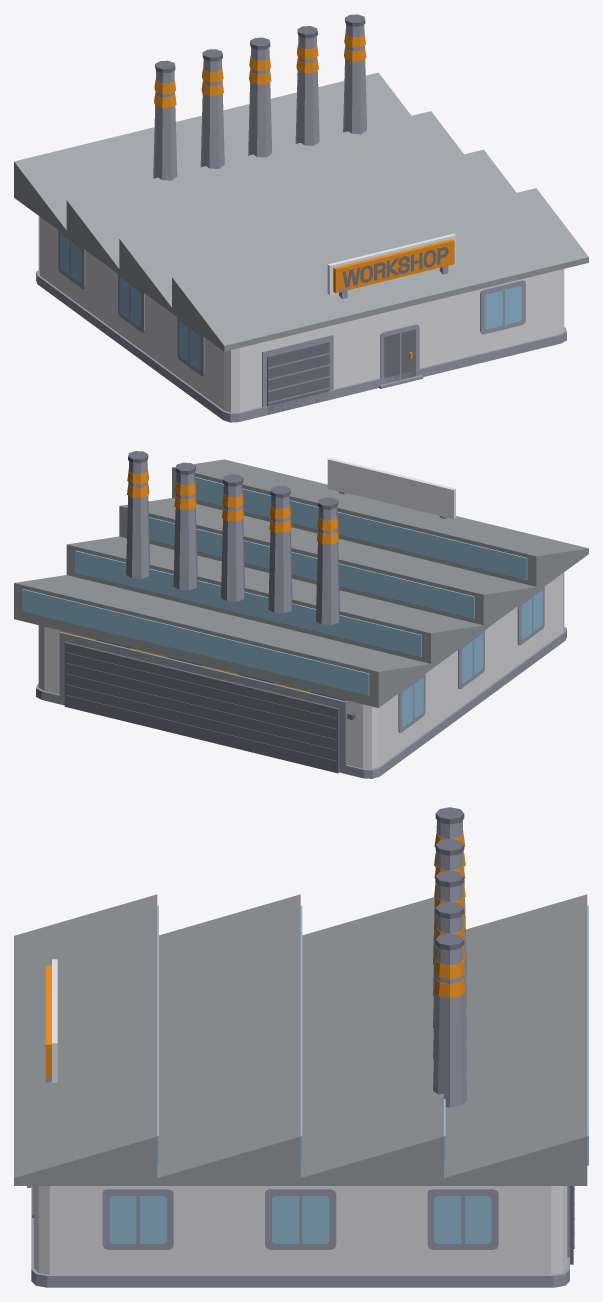
Rendered from workshop-2x2-t5-tone-a.glb.
3 renders of one model, top to bottom at view 1: azimuth 30°, elevation 25°; view 2: azimuth 150°, elevation 25°; view 3: azimuth 270°, elevation 25°, orthographic. The views are drawn at different scales.
Parts seen in each view (by area): view 1: workshop-2x2-t5-tone-a; view 2: workshop-2x2-t5-tone-a; view 3: workshop-2x2-t5-tone-a.
Boxes of the visible parts, left/top/right/bottom form: workshop-2x2-t5-tone-a: left=14, top=14, right=588, bottom=422; workshop-2x2-t5-tone-a: left=14, top=451, right=588, bottom=778; workshop-2x2-t5-tone-a: left=14, top=807, right=588, bottom=1287.
Bounding box in the file's own units: 2 × 1.18 × 2.01.
1 material, 1 textured.
